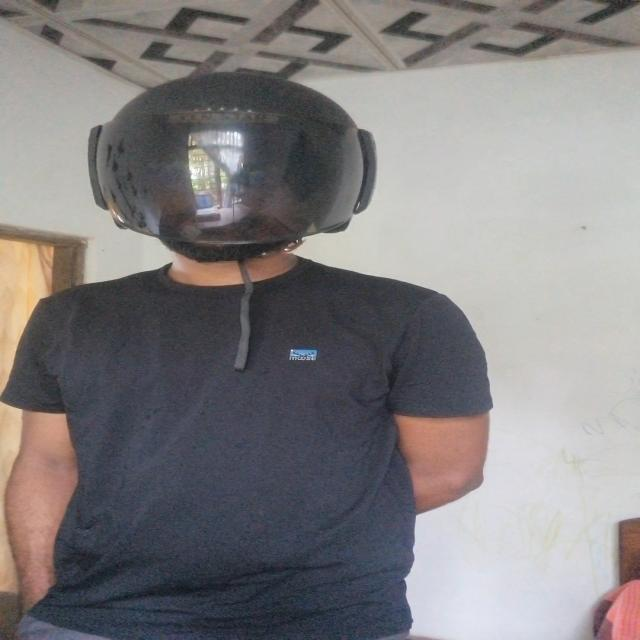Helmet_Wearer: (77, 74, 409, 286)
Person: (4, 76, 498, 640)
